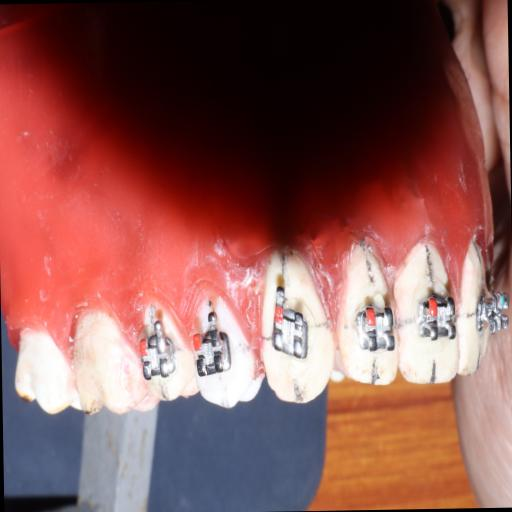incorrect_brace: (268, 294, 312, 363)
